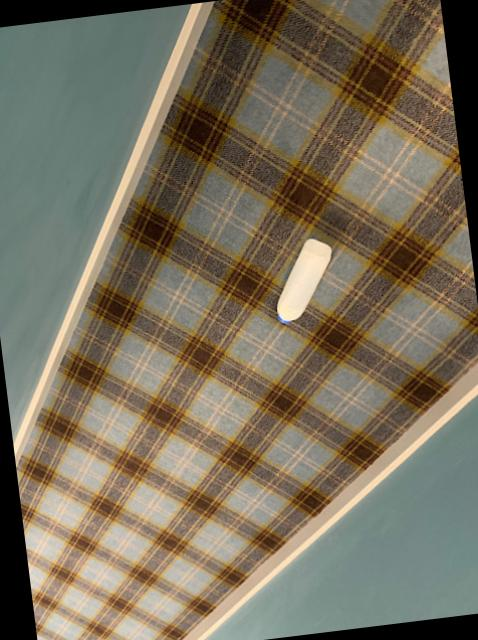plastic: (277, 240, 330, 324)
